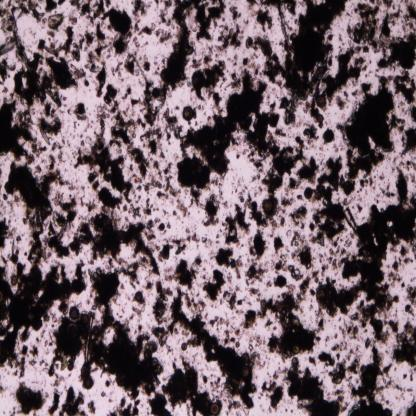Background material: (338, 192, 416, 342), (174, 79, 275, 194), (168, 286, 257, 411), (0, 260, 86, 376), (280, 0, 347, 124), (92, 309, 164, 400), (5, 164, 67, 266), (336, 73, 394, 176), (254, 277, 322, 358), (74, 125, 136, 201), (90, 212, 162, 276), (13, 55, 88, 107), (154, 0, 191, 104), (284, 358, 348, 414), (164, 358, 226, 412), (109, 103, 151, 177), (48, 312, 86, 388), (349, 343, 389, 414), (0, 100, 43, 163), (123, 52, 161, 121), (263, 136, 303, 199), (323, 48, 364, 106), (186, 56, 228, 102), (244, 34, 283, 80), (311, 152, 344, 206), (315, 276, 359, 316), (347, 0, 379, 52), (86, 265, 122, 311), (308, 205, 345, 247), (378, 32, 416, 72), (190, 0, 226, 42), (387, 318, 416, 370), (102, 7, 132, 57), (188, 188, 222, 228), (163, 253, 203, 286), (149, 159, 180, 200), (208, 246, 244, 280), (37, 24, 73, 57), (12, 379, 48, 412), (285, 156, 317, 193), (67, 224, 96, 264), (84, 22, 107, 71), (288, 228, 315, 269), (210, 315, 242, 349), (259, 372, 284, 412), (242, 191, 268, 229), (152, 280, 173, 326), (223, 204, 247, 244), (318, 244, 348, 276), (139, 126, 167, 159), (391, 70, 416, 106), (214, 22, 241, 54), (8, 1, 44, 24), (60, 384, 86, 415), (38, 104, 62, 137), (379, 0, 402, 34), (119, 257, 143, 289), (272, 260, 304, 283), (247, 333, 268, 368), (246, 0, 298, 14), (95, 188, 124, 213), (202, 270, 224, 302), (298, 120, 321, 150), (393, 166, 411, 204), (159, 237, 186, 262), (248, 228, 268, 260), (389, 246, 412, 273), (252, 7, 274, 35), (342, 347, 362, 376), (110, 398, 141, 416), (148, 392, 172, 415), (222, 288, 244, 313), (0, 0, 14, 38), (399, 128, 416, 158), (338, 318, 360, 341), (245, 262, 269, 283), (162, 114, 183, 138), (150, 325, 171, 349), (396, 160, 416, 185), (205, 88, 224, 114), (14, 344, 28, 379), (287, 206, 308, 229), (128, 292, 148, 316), (47, 142, 67, 166), (376, 380, 404, 397), (94, 63, 107, 99), (90, 0, 113, 20), (245, 149, 263, 174), (0, 220, 17, 246), (266, 206, 286, 228), (130, 1, 154, 19), (401, 1, 416, 29), (157, 0, 172, 28), (338, 175, 357, 197), (72, 102, 90, 125), (47, 388, 62, 415), (271, 272, 293, 290), (242, 52, 260, 74), (404, 285, 416, 318), (185, 232, 212, 246), (92, 105, 107, 130), (329, 356, 345, 379), (272, 235, 288, 258), (0, 60, 18, 80), (69, 0, 89, 18), (102, 84, 120, 104), (242, 309, 257, 332), (390, 112, 406, 133), (132, 21, 154, 36), (378, 182, 396, 200), (154, 216, 171, 235), (190, 54, 213, 68), (154, 28, 174, 44), (71, 36, 84, 60), (0, 38, 17, 56), (88, 168, 100, 193), (82, 200, 97, 220), (226, 68, 241, 88), (134, 176, 150, 194), (318, 350, 336, 366), (388, 273, 406, 289), (123, 205, 143, 219), (316, 309, 326, 336), (44, 0, 66, 12), (175, 199, 189, 217), (246, 287, 262, 302), (228, 3, 242, 20), (143, 198, 156, 216), (29, 345, 40, 366), (354, 55, 368, 71), (358, 177, 375, 190), (234, 188, 247, 204), (322, 128, 335, 144), (86, 399, 98, 416), (404, 107, 416, 124), (336, 94, 347, 112), (280, 194, 294, 208), (403, 401, 416, 415), (122, 89, 134, 104), (262, 316, 273, 330), (0, 382, 8, 399), (311, 270, 320, 284), (307, 356, 317, 368), (225, 270, 232, 284), (356, 202, 364, 214), (104, 377, 112, 388), (308, 287, 316, 298), (295, 193, 304, 201), (144, 282, 154, 289), (1, 86, 9, 94)
Cellulose filter fibre: (8, 13, 32, 68)
Diatom: (40, 127, 50, 146), (183, 106, 194, 121), (69, 306, 80, 320), (210, 402, 221, 416), (316, 94, 326, 108), (83, 376, 93, 390), (315, 288, 325, 301), (304, 187, 314, 200), (80, 366, 90, 378), (263, 200, 273, 211), (162, 106, 170, 119), (316, 113, 325, 124), (334, 373, 342, 384), (182, 342, 187, 350)
